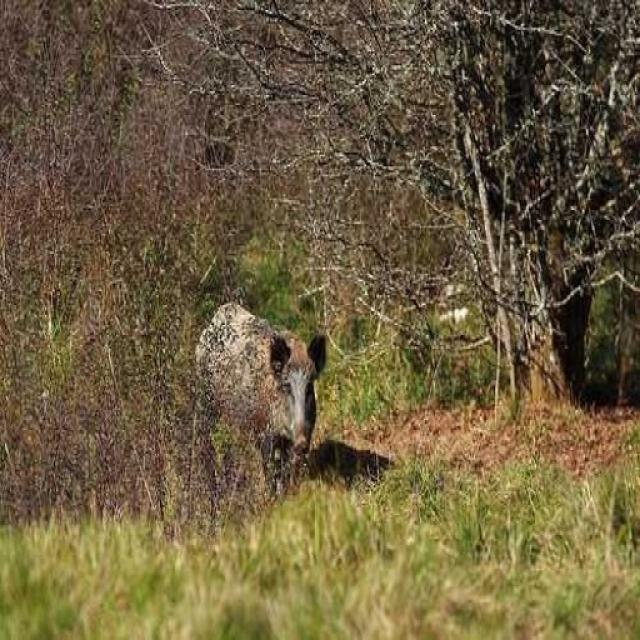pig: (180, 247, 340, 488)
